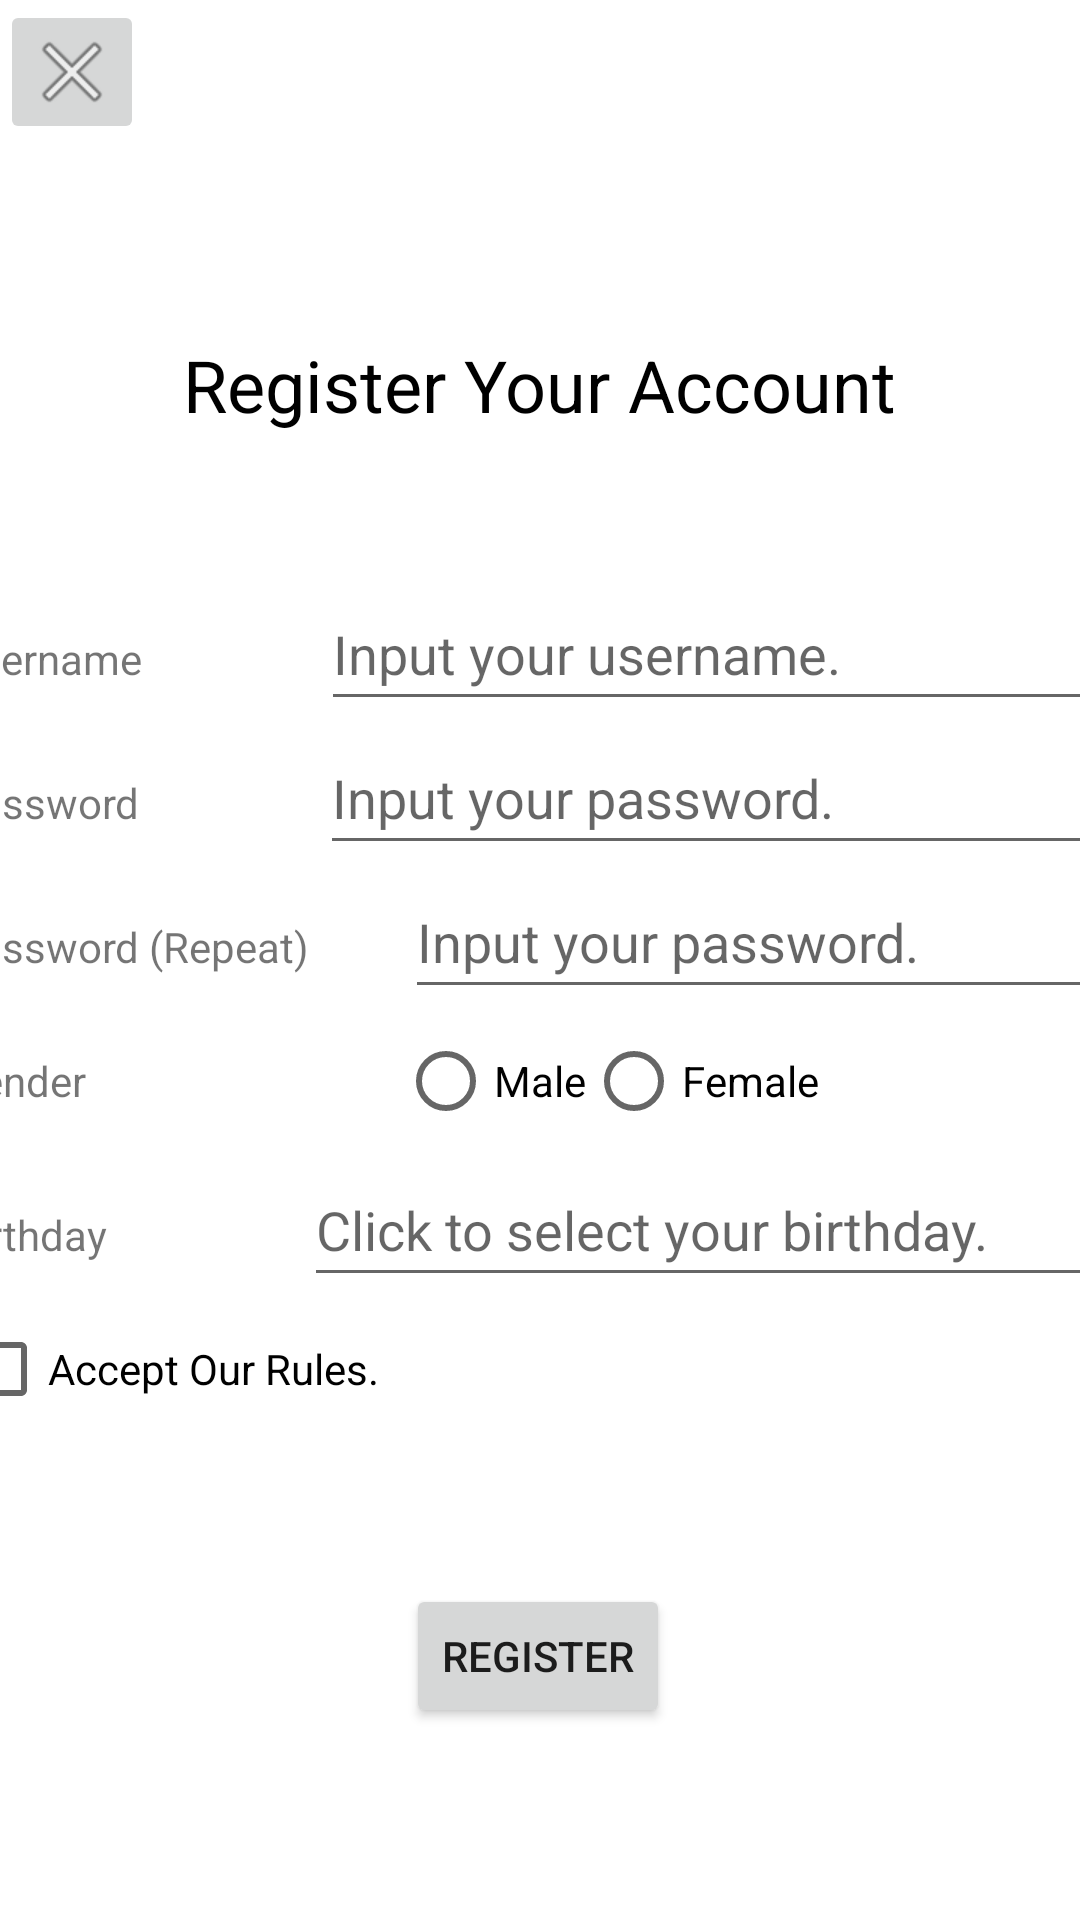

Named icons in this screenshot (1080w x 1920h) and their bounding boxes, {"left": x1, "top": y1, "right": x2, "bottom": y2}:
close clear cancel: {"left": 12, "top": 18, "right": 132, "bottom": 126}
